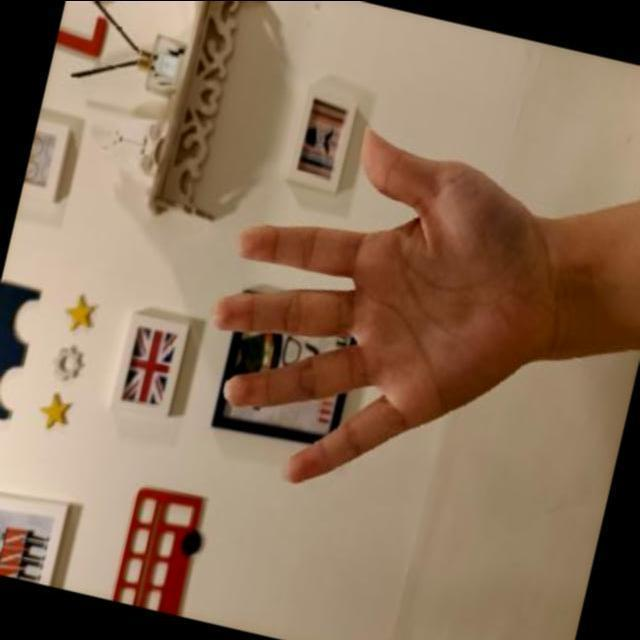Hand: (197, 118, 597, 496)
